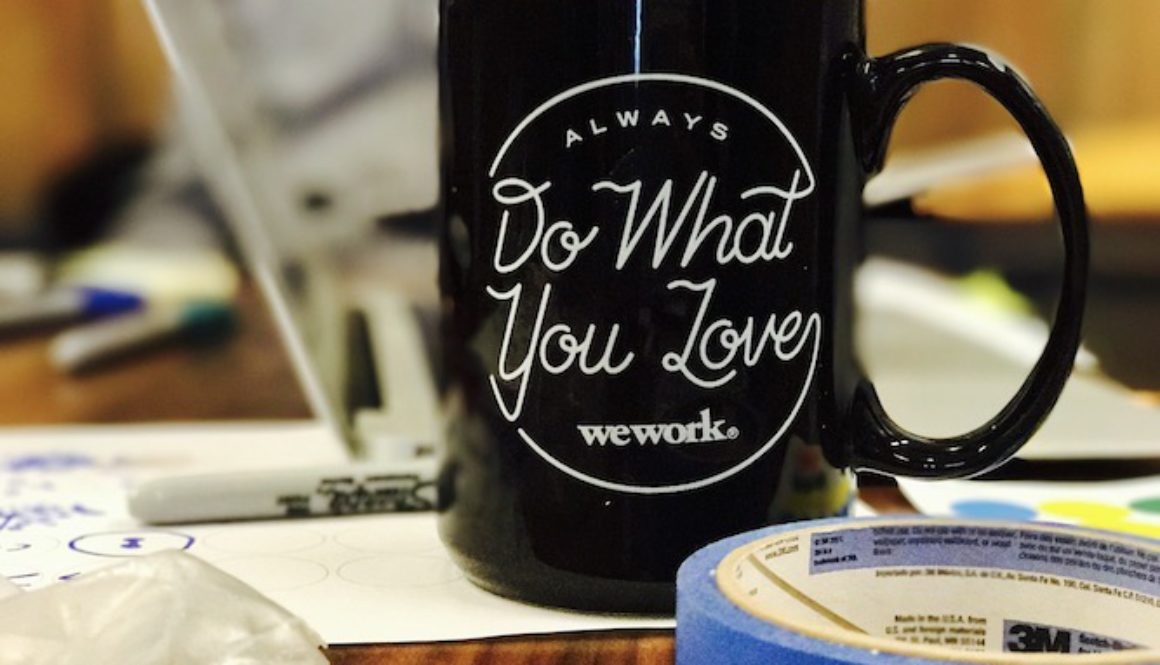wework: (572, 405, 728, 449)
